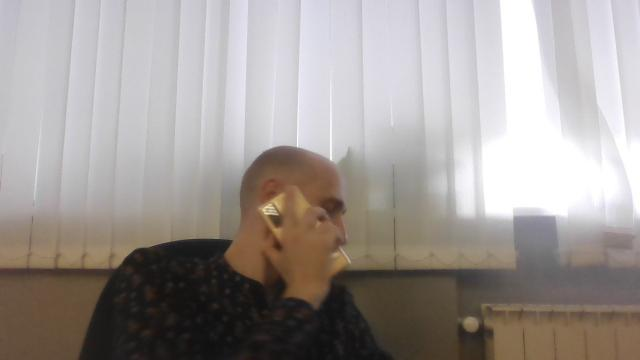PhoneUse: (258, 185, 352, 278)
